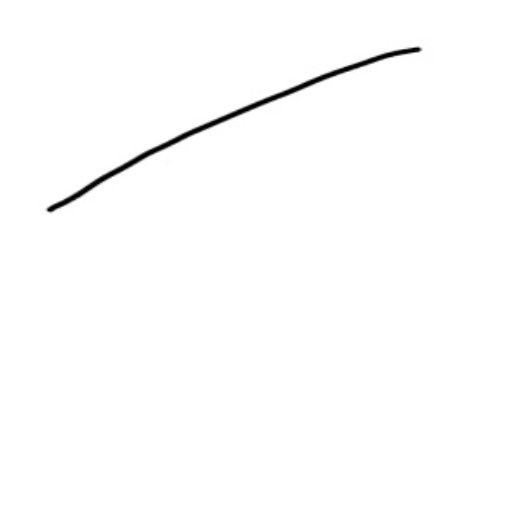line: (38, 41, 429, 224)
